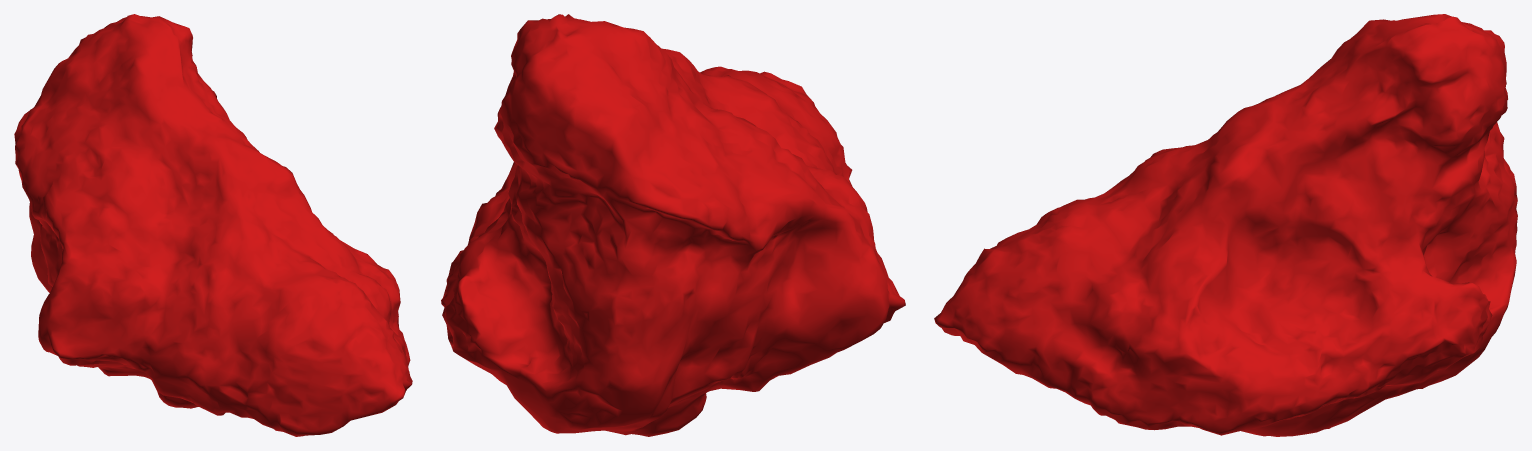
File: ice5.fbx
3 renders of one model, left to right at view 1: azimuth 30°, elevation 25°; view 2: azimuth 150°, elevation 25°; view 3: azimuth 270°, elevation 25°, orthographic. The views are drawn at different scales.
Visible parts, largest first — view 1: 1; view 2: 1; view 3: 1.
Boxes of the visible parts, left/top/right/bottom form: 1: left=14, top=14, right=412, bottom=436; 1: left=441, top=14, right=905, bottom=436; 1: left=934, top=14, right=1517, bottom=436.
Size of the model in its own units: 325 by 330 by 431.
